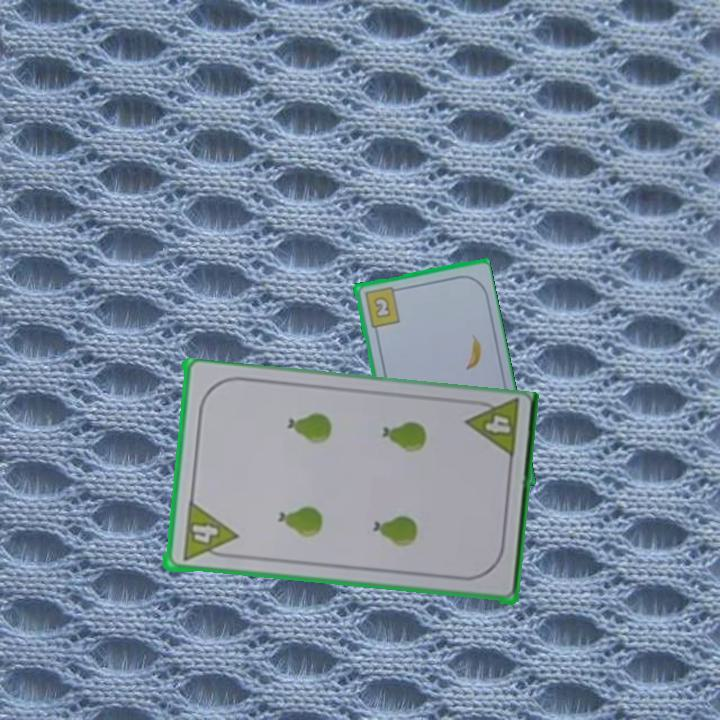2b: (361, 283, 403, 330)
4p: (186, 500, 239, 548), (481, 412, 513, 437)
